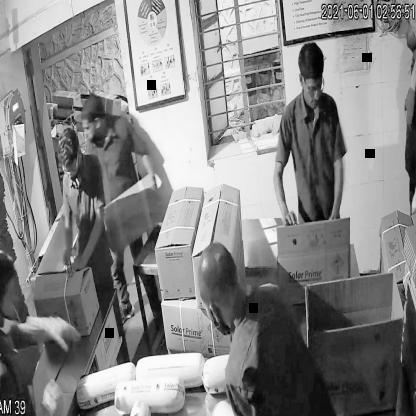goggles: (57, 154, 85, 181)
